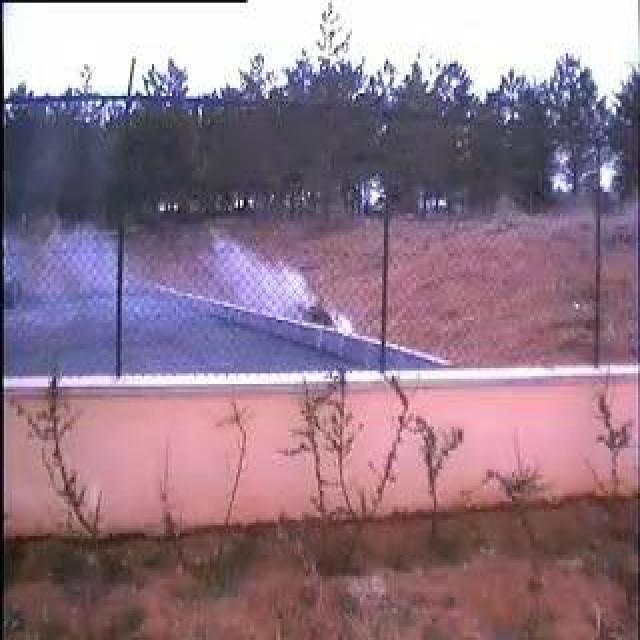Smoke: (45, 192, 329, 365)
